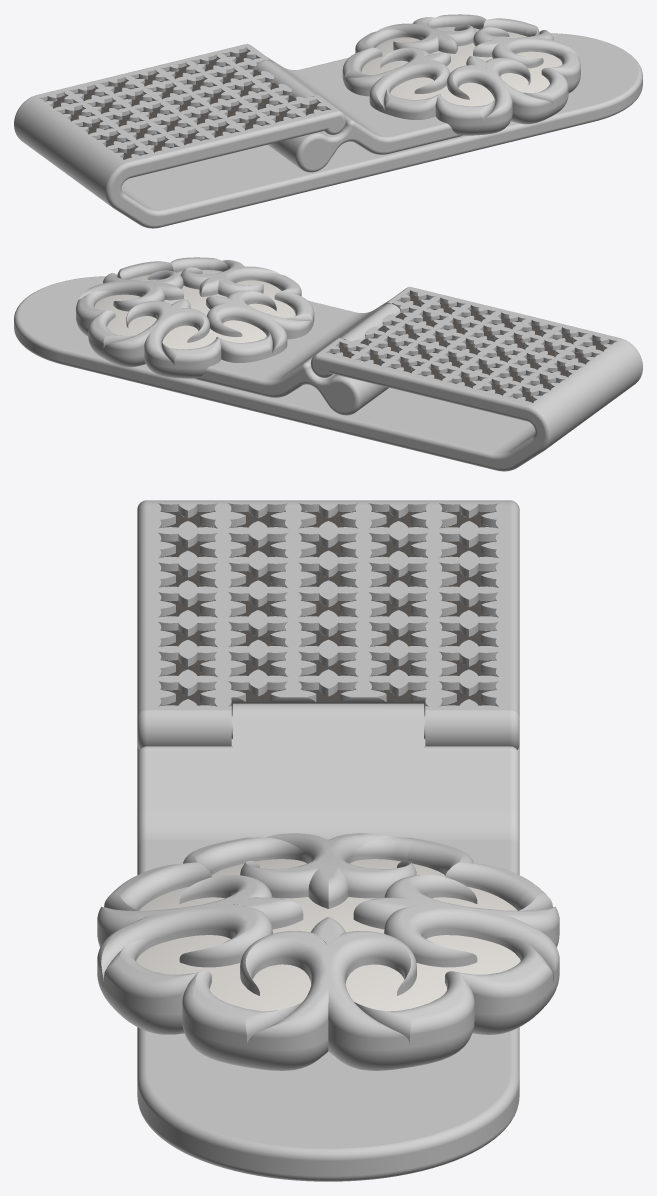
The model's file is clipmoney_mflux.glb.
The picture shows the model from 3 angles, top to bottom: view 1: azimuth 30°, elevation 25°; view 2: azimuth 150°, elevation 25°; view 3: azimuth 270°, elevation 25°; orthographic projection. The views are drawn at different scales.
Bounding box in the file's own units: 0.0551 × 0.00674 × 0.0194.
3 materials, 1 textured.
